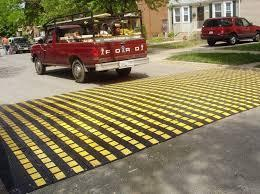Bump: (0, 66, 259, 193)
